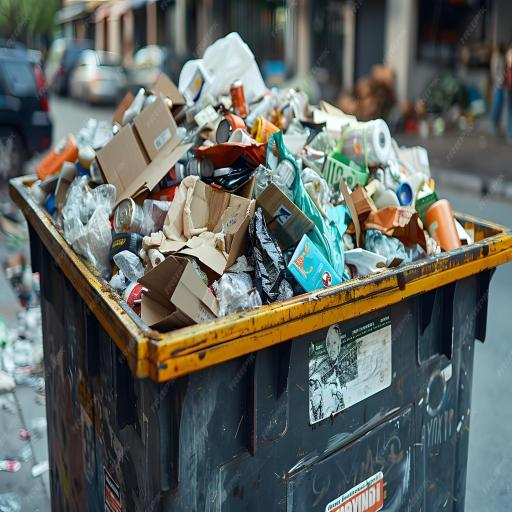Contenedor_Desbordado: (9, 32, 512, 512)
